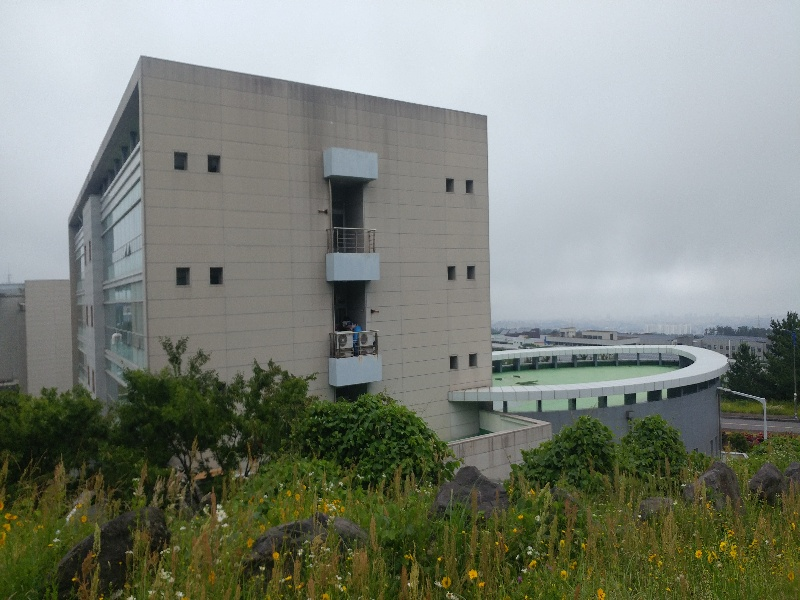College of Marine Science: (90, 79, 725, 459)
Engineering College Building 4: (6, 290, 76, 391)
